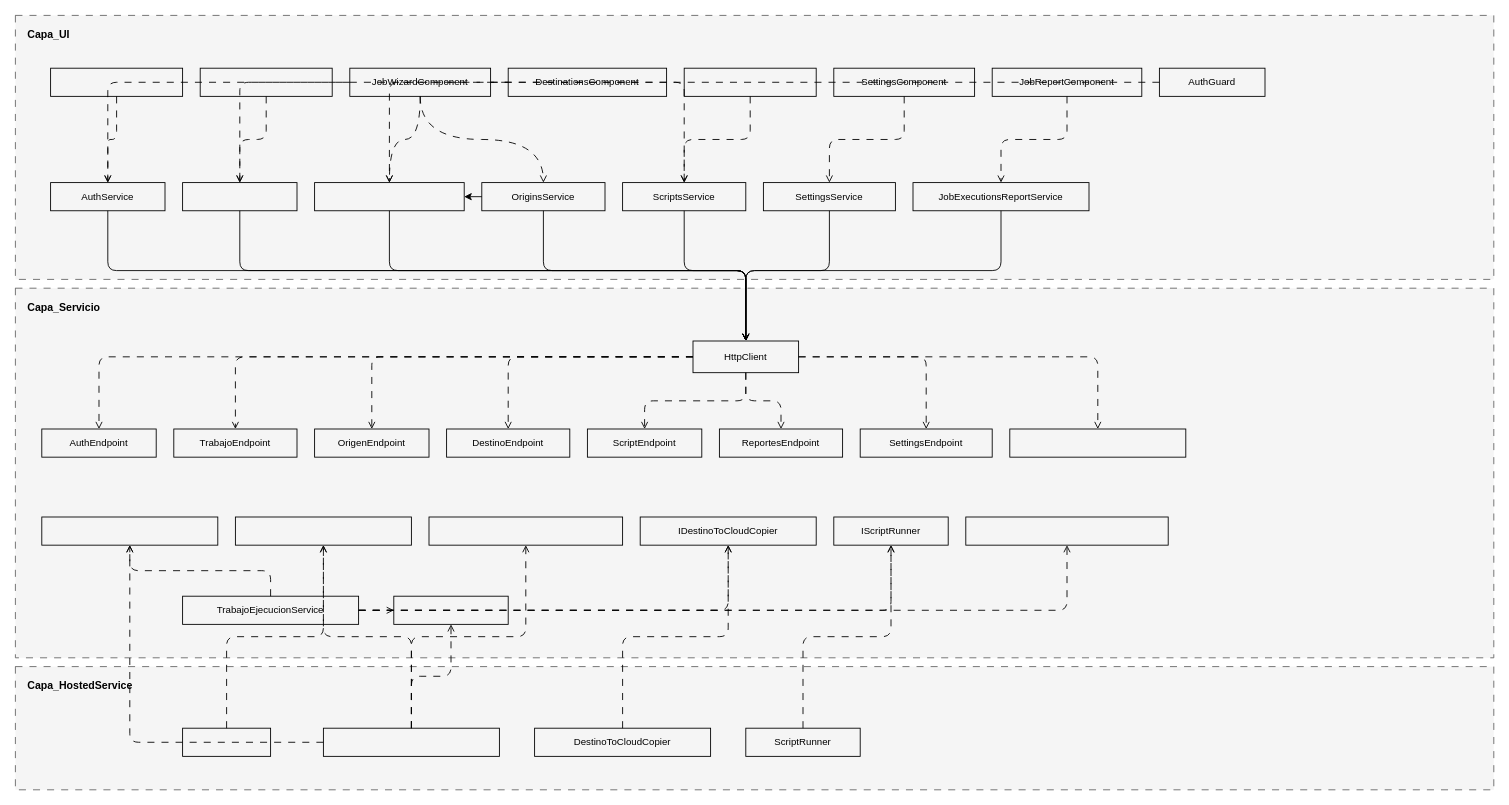
This 1509x805 diagram has some shape labels left out. The centre of each missing label's shape, as x and y in pixels:
AppDbContext: [450,609]
DestinationsService: [389,196]
ICronMinutoEjecucionTracker: [525,530]
IDestinoCredentialProtector: [1066,530]
ITrabajoCronTickHandler: [323,530]
ITrabajoEjecucionService: [129,530]
JobsComponent: [265,81]
JobsService: [239,196]
LogAccionesUsuarioEndpoint: [1097,442]
LoginComponent: [116,81]
Robot: [226,741]
ScriptsComponent: [749,81]
TrabajoCronTickHandler: [411,741]
